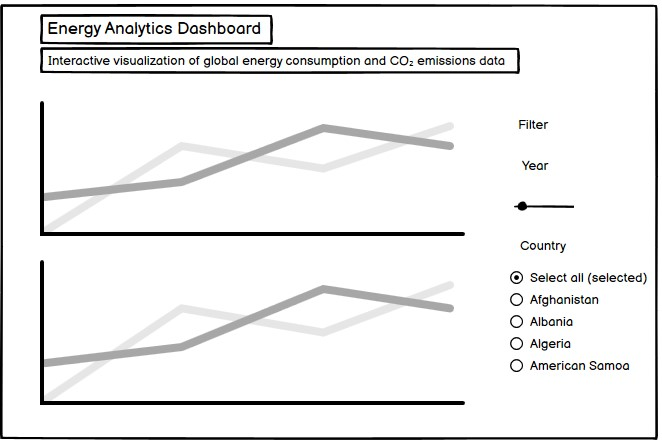

The page's visual inventory and layout, read from the dashboard file:
{"tool":"powerbi","page":{"name":"Trends","canvas":[1280,720],"ordinal":1},"visuals":[{"type":"textbox","box":[49.4,0,726.2,65],"z":0},{"type":"textbox","box":[49.4,49.4,915.5,46.6],"z":1000},{"type":"slicer","fields":{"Values":["cleaned_energy_data.Year"]},"box":[1059.6,96.1,199.2,117.3],"z":2000},{"type":"textbox","box":[1060.3,50,82.9,46],"z":3000},{"type":"lineChart","title":"Energy Consumption by Country","fields":{"Y":["Sum(cleaned_energy_data.Energy_consumption)1"],"Category":["cleaned_energy_data.Year"],"Series":["cleaned_energy_data.Country"]},"box":[10,138.2,874.1,278.9],"z":4000},{"type":"lineChart","title":"CO₂ Emissions Trends","fields":{"Y":["Sum(cleaned_energy_data.CO2_emission)"],"Series":["cleaned_energy_data.Country"],"Category":["cleaned_energy_data.Year"]},"box":[10,437,874.1,257.7],"z":6000},{"type":"actionButton","box":[0,0,100,40],"z":7000},{"type":"slicer","fields":{"Values":["cleaned_energy_data.Country"]},"box":[1059.6,243,199.2,450.7],"z":8001}]}

Visuals, with their boxes on the page's 1280x720 design canvas (x1, y1, x2, y2). These are canvas units, not pixel positions in the 662x441 screenshot, which may show the page scaled, cropped or inside an application window:
textbox: <region>49, 0, 776, 65</region>
textbox: <region>49, 49, 965, 96</region>
slicer - cleaned_energy_data.Year: <region>1060, 96, 1259, 213</region>
textbox: <region>1060, 50, 1143, 96</region>
"Energy Consumption by Country" lineChart: <region>10, 138, 884, 417</region>
"CO₂ Emissions Trends" lineChart: <region>10, 437, 884, 695</region>
actionButton: <region>0, 0, 100, 40</region>
slicer - cleaned_energy_data.Country: <region>1060, 243, 1259, 694</region>
